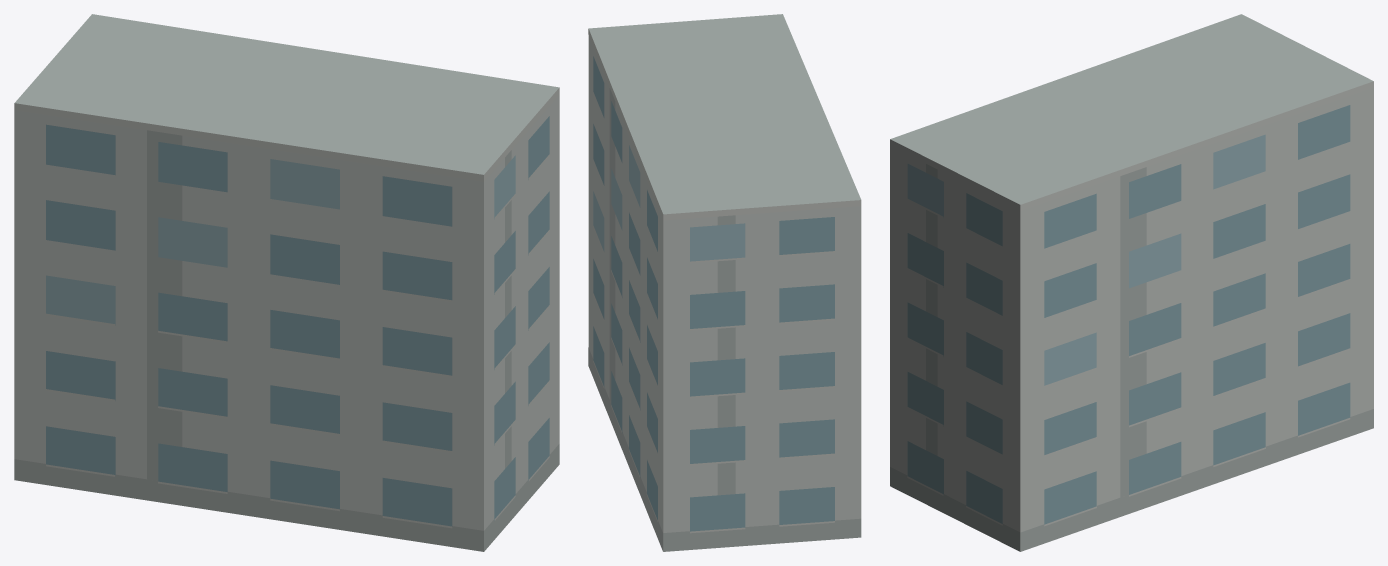
The model's file is survey-upis-32935837.glb.
The picture shows the model from 3 angles, left to right: view 1: azimuth 30°, elevation 25°; view 2: azimuth 150°, elevation 25°; view 3: azimuth 270°, elevation 25°; orthographic projection. The views are drawn at different scales.
Visible parts, largest first — view 1: survey-upis-32935837.tmp; view 2: survey-upis-32935837.tmp; view 3: survey-upis-32935837.tmp.
Part boxes in pixels (box(x1,y1,x2,y2)): survey-upis-32935837.tmp: box(14, 14, 559, 551); survey-upis-32935837.tmp: box(588, 14, 861, 551); survey-upis-32935837.tmp: box(890, 14, 1373, 551).
Size of the model in its own units: 15.81 by 13.4 by 16.94.
